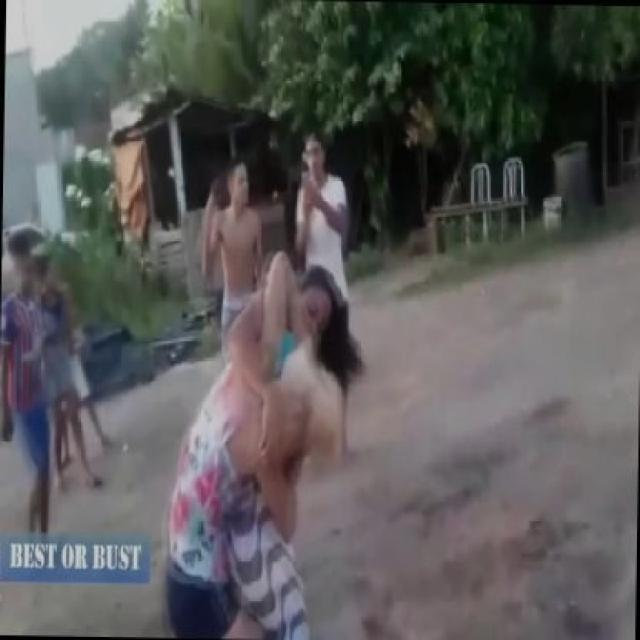fight: (154, 246, 343, 640)
non-fight: (194, 161, 271, 351), (293, 134, 351, 307)
